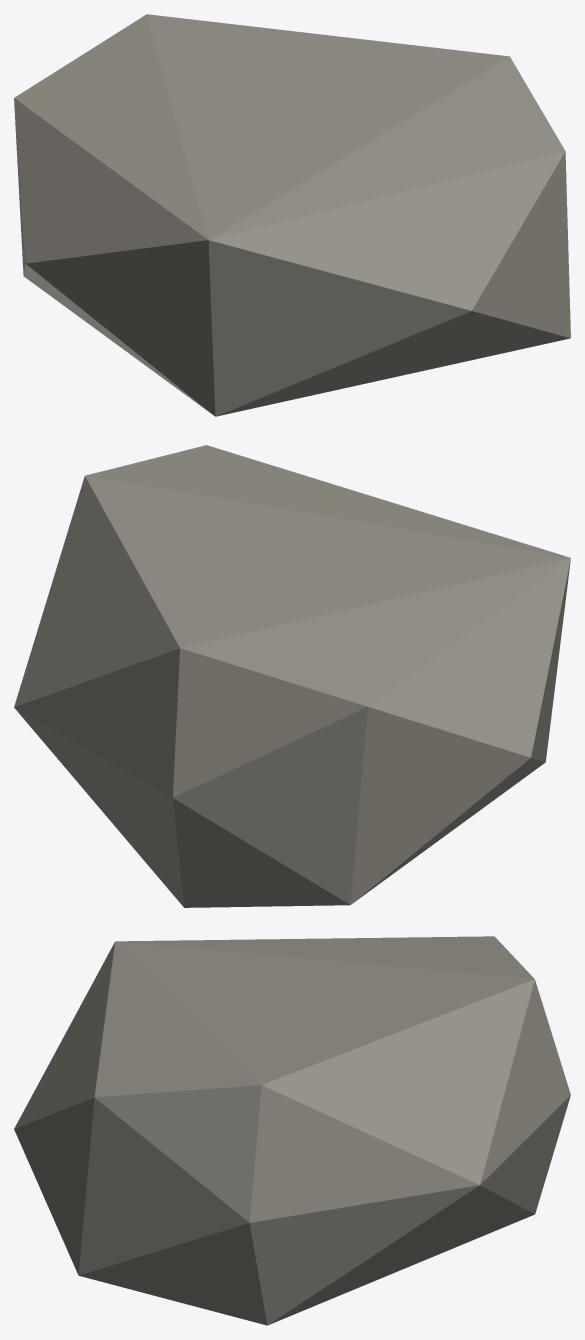
Rendered from Rock_17.fbx.
The picture shows the model from 3 angles, top to bottom: view 1: azimuth 30°, elevation 25°; view 2: azimuth 150°, elevation 25°; view 3: azimuth 270°, elevation 25°; orthographic projection. The views are drawn at different scales.
Visible parts, largest first — view 1: Rock_17; view 2: Rock_17; view 3: Rock_17.
Part boxes in pixels (x1,y1,x2,y2): Rock_17: (14,14,570,416); Rock_17: (14,445,570,907); Rock_17: (14,936,570,1325).
Size of the model in its own units: 59.42 by 28.44 by 59.7.
